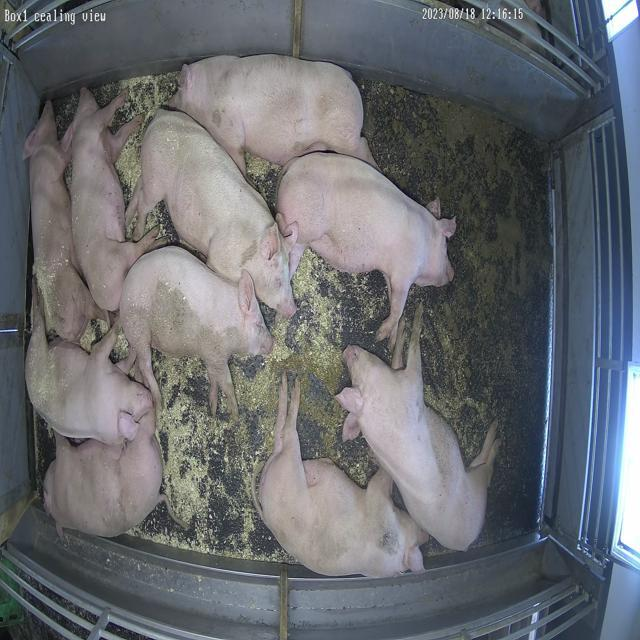Dirt: (366, 82, 553, 544), (273, 346, 377, 486)
Pig: (337, 310, 501, 552), (127, 109, 297, 318), (258, 375, 428, 578), (277, 152, 456, 344), (119, 246, 274, 416), (170, 54, 376, 174), (68, 88, 162, 312), (23, 101, 103, 342), (25, 298, 153, 446), (43, 410, 163, 538)
